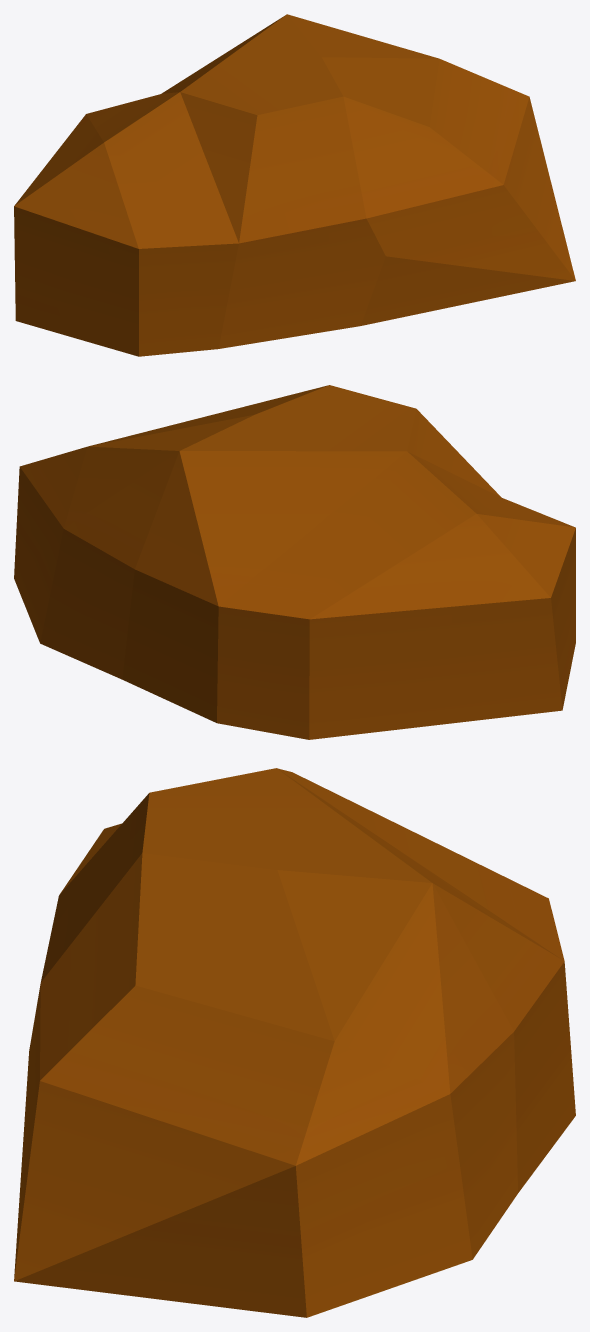
File: Landscape_rock_003.obj
The picture shows the model from 3 angles, top to bottom: view 1: azimuth 30°, elevation 25°; view 2: azimuth 150°, elevation 25°; view 3: azimuth 270°, elevation 25°; orthographic projection. The views are drawn at different scales.
Parts seen in each view (by area): view 1: Landscape_rock.003; view 2: Landscape_rock.003; view 3: Landscape_rock.003.
Part boxes in pixels (x1,y1,x2,y2): Landscape_rock.003: (14,14,575,356); Landscape_rock.003: (14,385,575,739); Landscape_rock.003: (14,768,575,1317).
Size of the model in its own units: 54.94 by 20.36 by 35.42.
